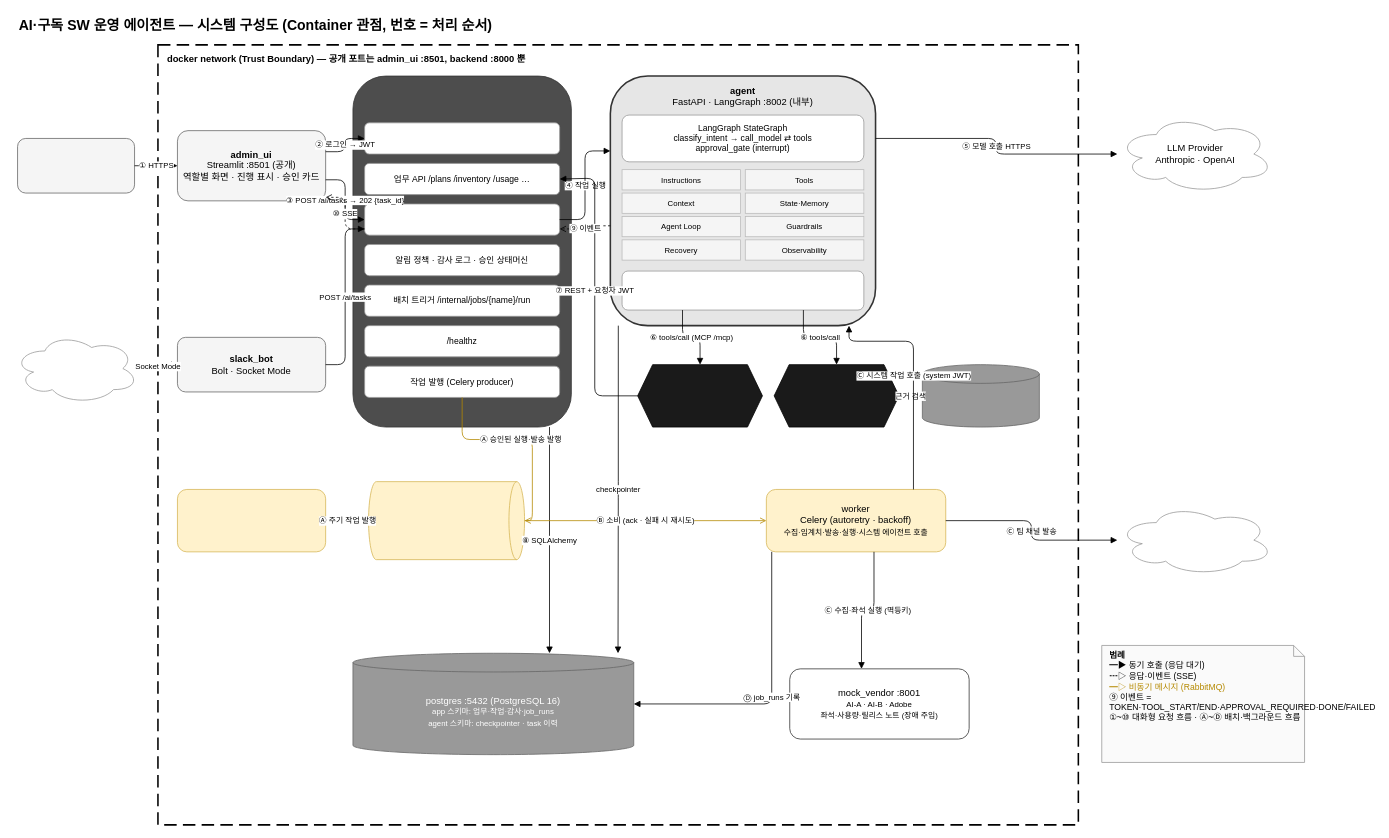
This 1389x838 diagram has some shape labels left out. Here are the shapes that lost their labels. From the top down, the box of each, then its label:
(364, 122, 560, 154): 인증 /auth/login · JWT 발급·검증
(17, 138, 135, 193): 사용자 브라우저 직원 · 관리자
(364, 203, 560, 235): AI 작업 중계 /ai/tasks (202 · SSE)
(352, 75, 571, 427): backend FastAPI :8000 (공개) — 업무 규칙의 단일 지점
(621, 270, 864, 310): MCP Client (FastMCP)
(13, 333, 138, 404): Slack 워크스페이스
(637, 364, 762, 427): business-mcp mcp_work :8010 조회·변경 도구 · Resource
(773, 364, 899, 427): rag-mcp mcp_docs :8011 문서 검색 · 원문 Resource
(922, 364, 1039, 427): 문서 색인 FTS5 → (선택) pgvector
(177, 489, 326, 552): beat Celery Beat 사용량 10~30분 · 업데이트 주 1회
(368, 481, 525, 560): rabbitmq :5672 batch · agent · notify + DLQ
(1117, 504, 1273, 575): Slack Web API (발송)
